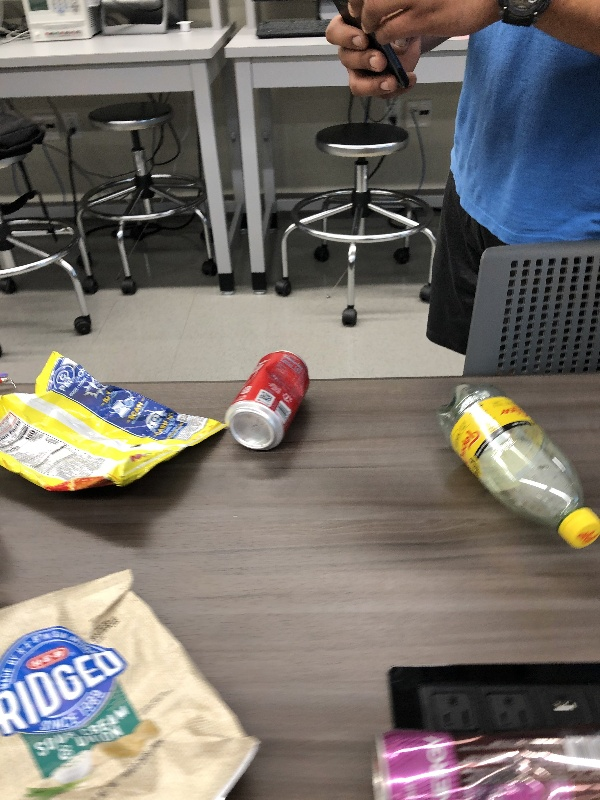bag: (1, 563, 274, 800), (1, 344, 231, 501)
bottle: (429, 379, 600, 554)
can: (366, 724, 600, 797), (224, 345, 313, 455)
